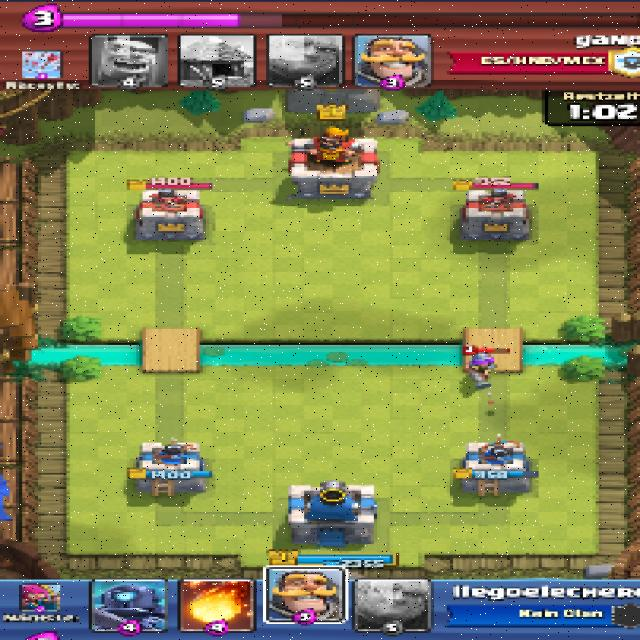Enemy-Musketeer: (462, 350, 500, 388)
